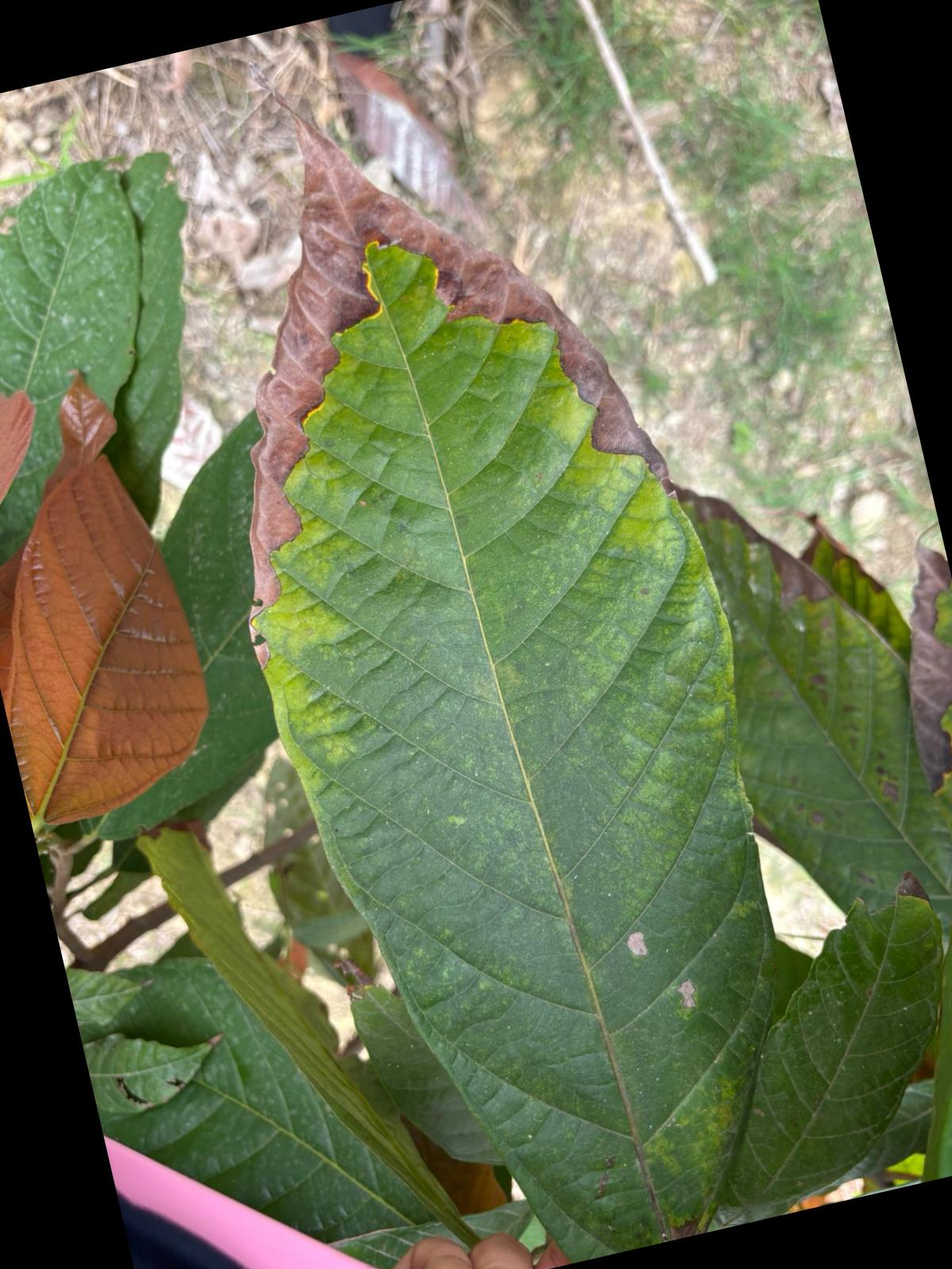Potasio: (251, 122, 774, 1263)
